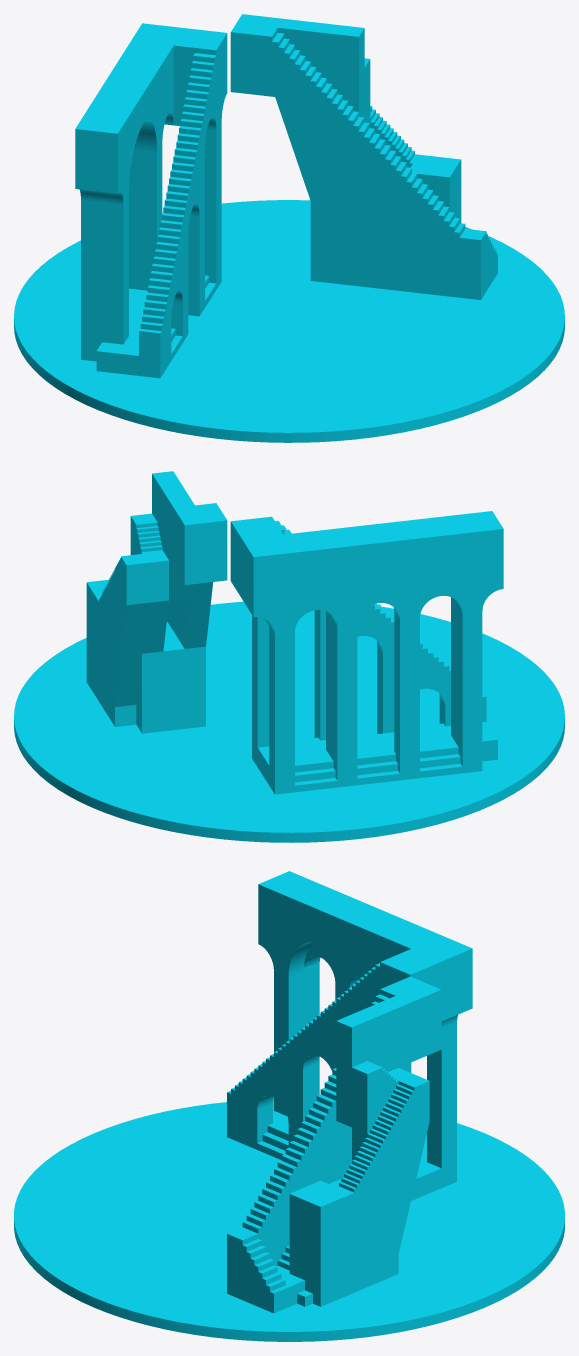
File: scene_opt.glb
3 renders of one model, top to bottom at view 1: azimuth 30°, elevation 25°; view 2: azimuth 150°, elevation 25°; view 3: azimuth 270°, elevation 25°, orthographic.
Bounding box in the file's own units: 19.99 × 10 × 19.99.
